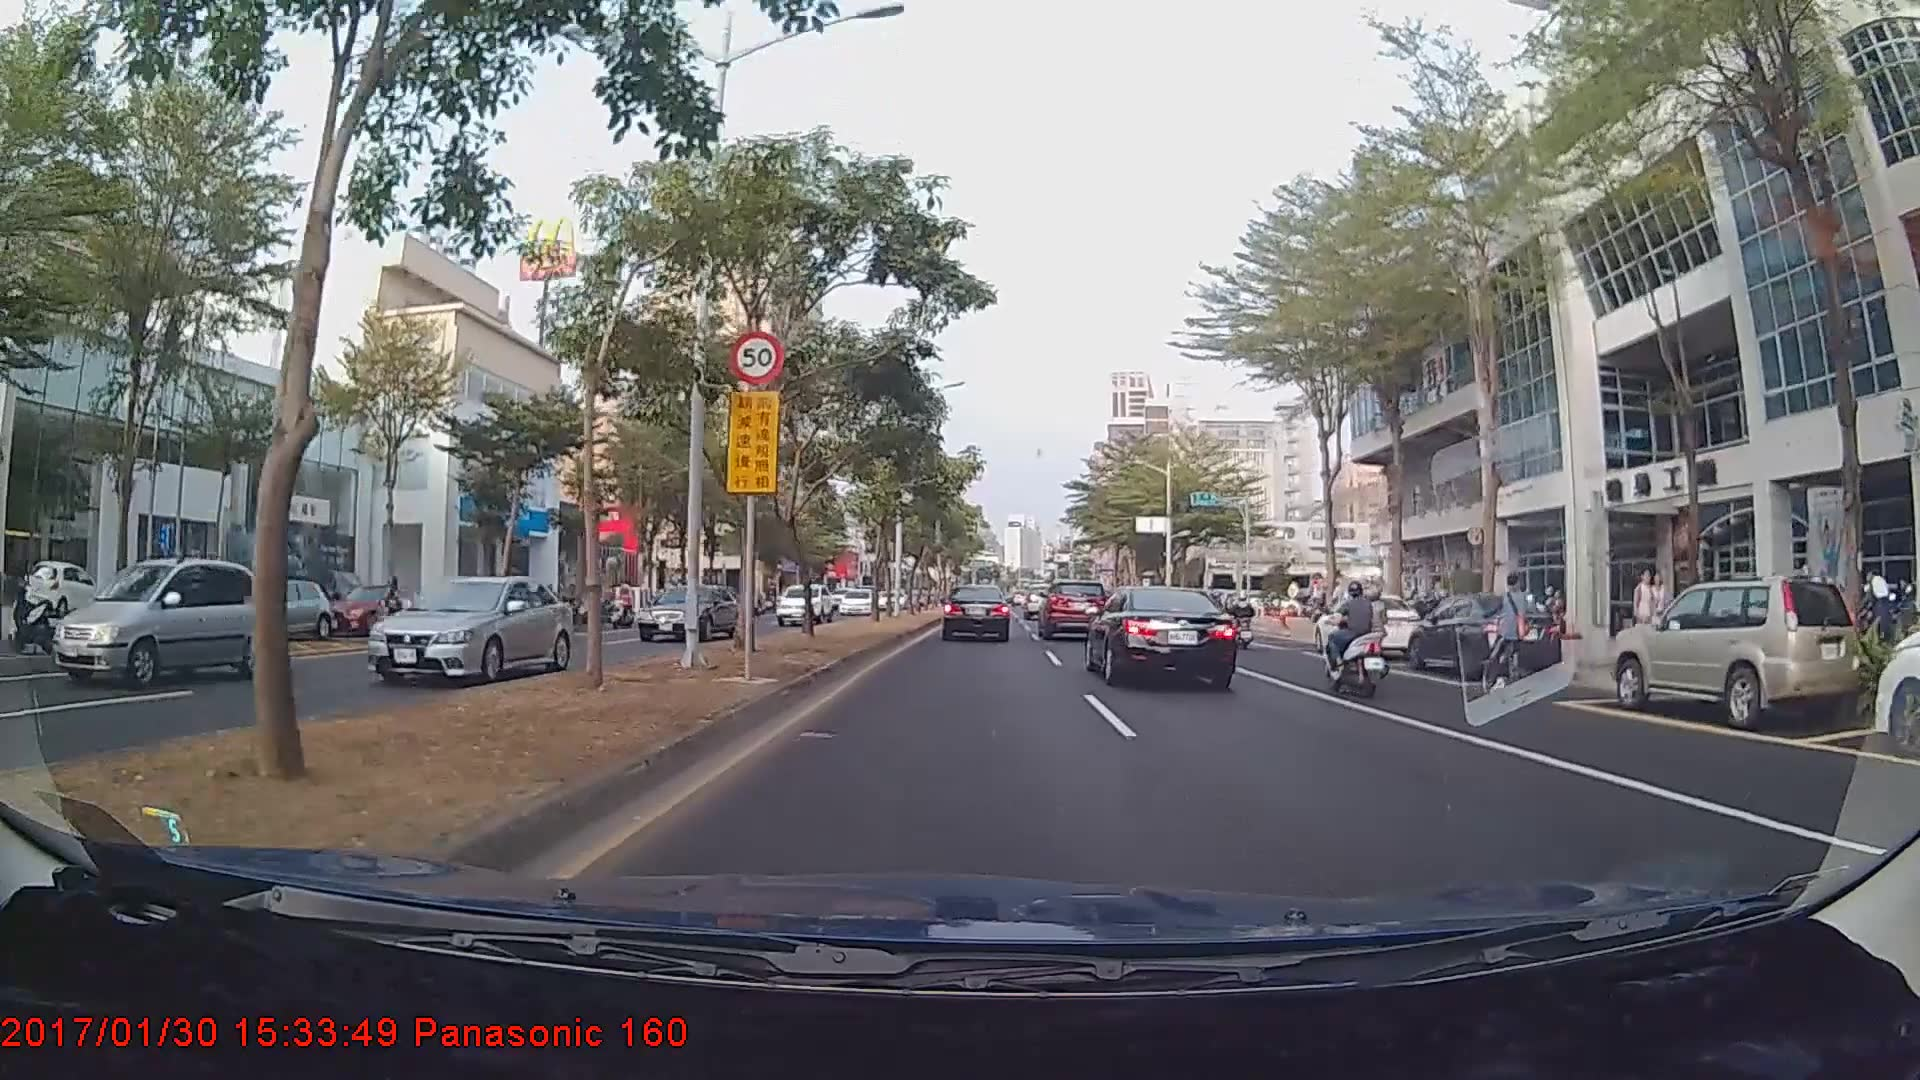pedestrian: (1634, 570, 1661, 655), (1646, 572, 1673, 652)
rider: (1317, 577, 1398, 701), (1473, 573, 1545, 708), (1359, 583, 1412, 678), (1227, 593, 1261, 647)
vehicle: (1615, 571, 1858, 726), (50, 559, 271, 690), (362, 573, 575, 684), (1086, 580, 1238, 691), (1404, 589, 1561, 678), (1310, 591, 1427, 661), (224, 577, 333, 643), (633, 578, 740, 640), (317, 579, 424, 636), (1036, 577, 1109, 641), (941, 583, 1012, 642), (773, 584, 833, 626), (1022, 582, 1061, 618), (837, 586, 874, 616)
